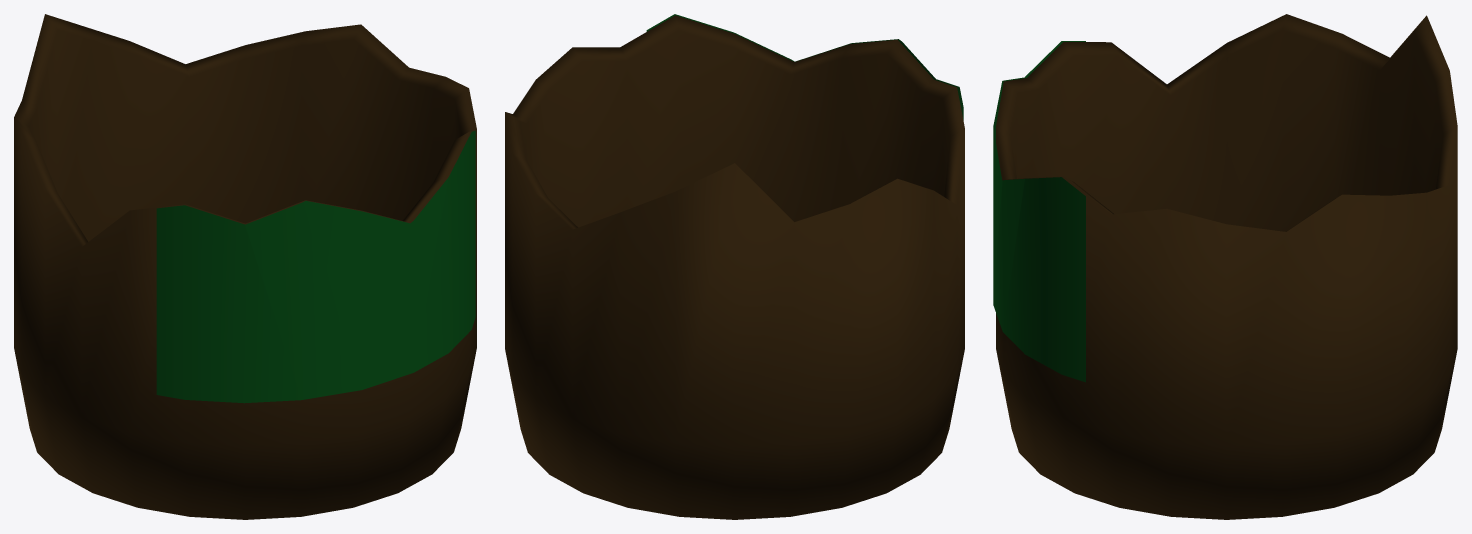
File: BeerBottleBrokenBottom.fbx
3 renders of one model, left to right at view 1: azimuth 30°, elevation 25°; view 2: azimuth 150°, elevation 25°; view 3: azimuth 270°, elevation 25°, orthographic.
Visible parts, largest first — view 1: GlassBottleBroken; view 2: GlassBottleBroken; view 3: GlassBottleBroken.
Part boxes in pixels (<box>): GlassBottleBroken: <box>14,14,476,519</box>; GlassBottleBroken: <box>505,14,964,519</box>; GlassBottleBroken: <box>993,14,1457,519</box>.
Size of the model in its own units: 5.19 by 4.53 by 5.22.
